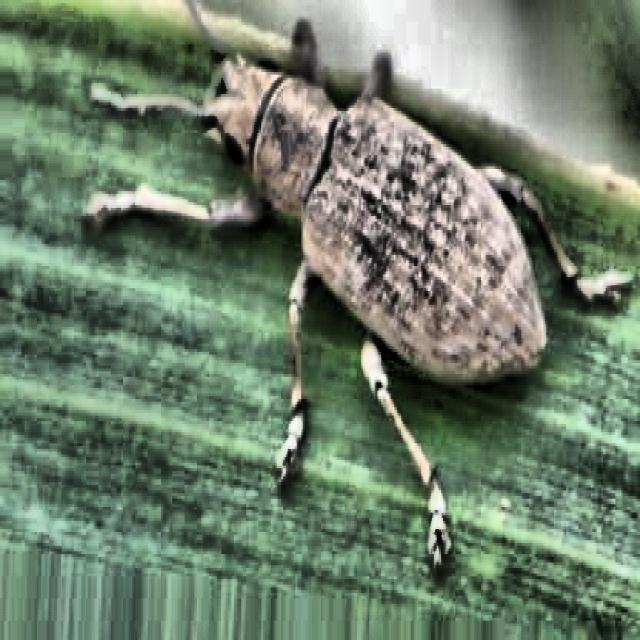Stink bug: (125, 0, 593, 496)
